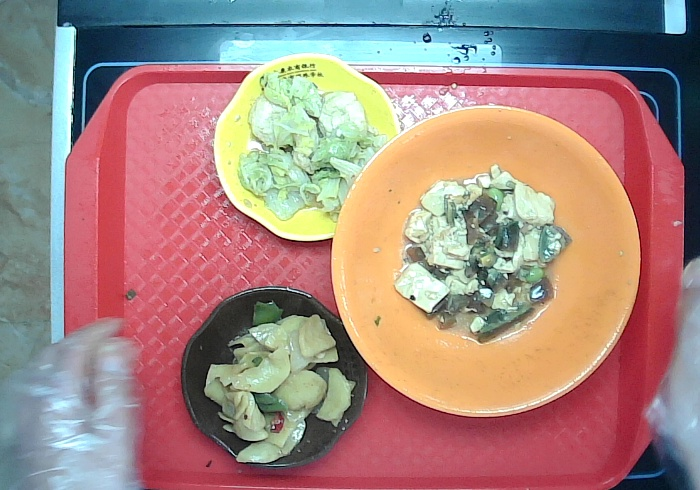YKMZ-Huang_Se_Ao_Bian_Wan: (212, 51, 402, 243)
YKMZ-Ju_Se_Tang_Wan: (328, 103, 642, 419)
YKMZ-Ka_Fei_Ao_Bian_Wan: (179, 285, 369, 469)
